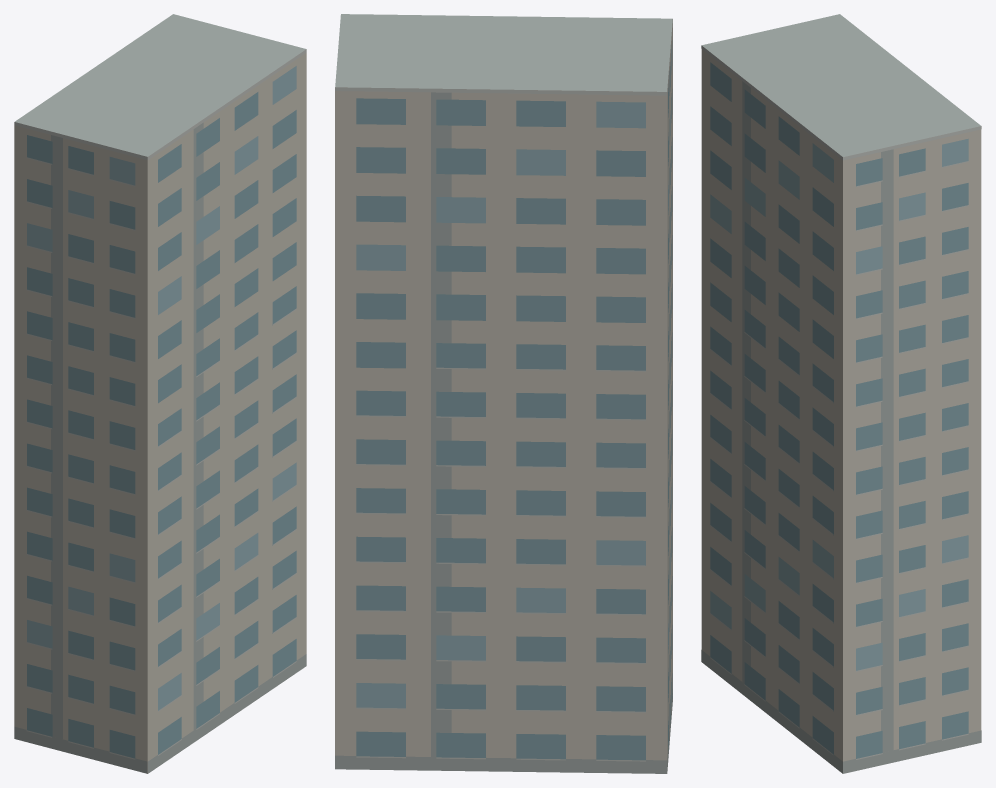
File: residential-69f76cad-51f3-41b1-bda5-f8416093b3d2.glb
The picture shows the model from 3 angles, left to right: view 1: azimuth 30°, elevation 25°; view 2: azimuth 150°, elevation 25°; view 3: azimuth 270°, elevation 25°; orthographic projection. The views are drawn at different scales.
Parts seen in each view (by area): view 1: residential-69f76cad-51f3-41b1-bda5-f8416093b3d2.tmp; view 2: residential-69f76cad-51f3-41b1-bda5-f8416093b3d2.tmp; view 3: residential-69f76cad-51f3-41b1-bda5-f8416093b3d2.tmp.
Boxes of the visible parts, <box> form: residential-69f76cad-51f3-41b1-bda5-f8416093b3d2.tmp: <box>14,14,306,773</box>; residential-69f76cad-51f3-41b1-bda5-f8416093b3d2.tmp: <box>335,14,672,773</box>; residential-69f76cad-51f3-41b1-bda5-f8416093b3d2.tmp: <box>701,14,981,773</box>.
Size of the model in its own units: 21.92 by 44 by 18.11.
